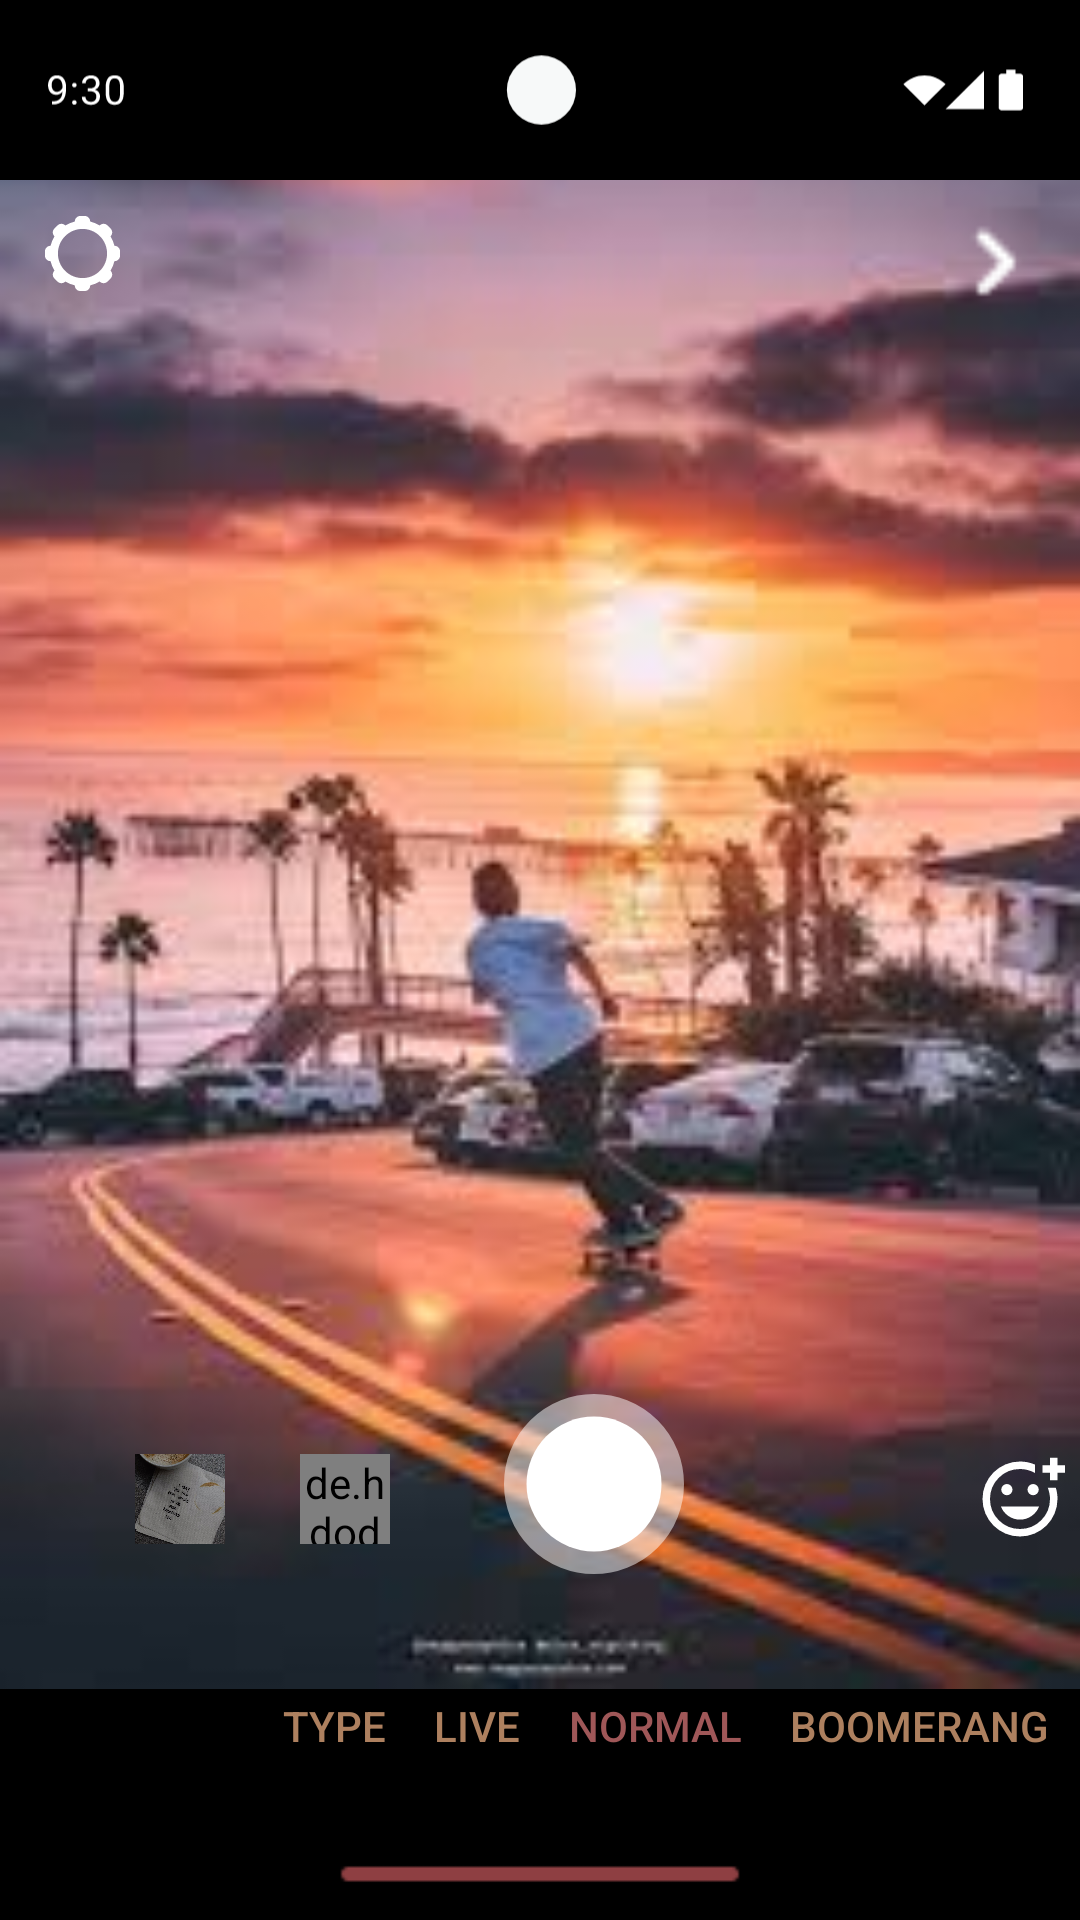

Icon click points for this 1080x1920 phone screenshot, format (x,y):
settings: (82,253)
shutter: (594,1484)
smile: (1023,1497)
squareimage: (180,1499)
